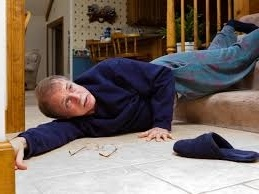fall: (5, 14, 258, 166)
